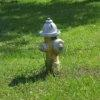a fire hydrant: (39, 16, 65, 81)
